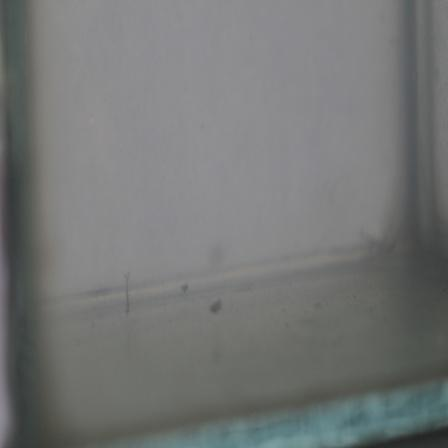Jentik-Nyamuk: (123, 269, 134, 319)
